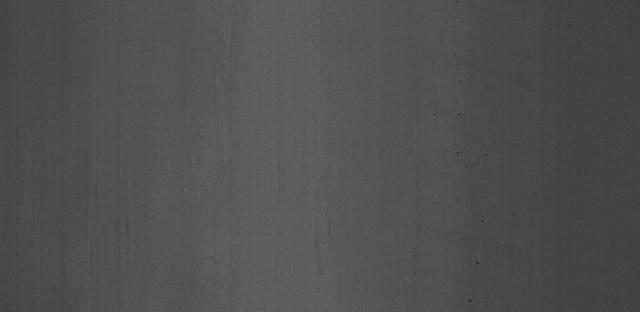inclusion: (464, 296, 478, 305), (454, 148, 463, 160), (478, 217, 492, 224), (474, 257, 482, 268)
